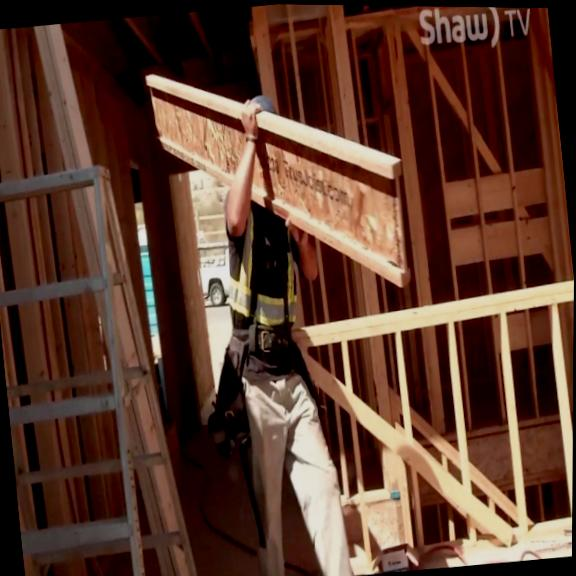safety_vest: (217, 194, 302, 332)
